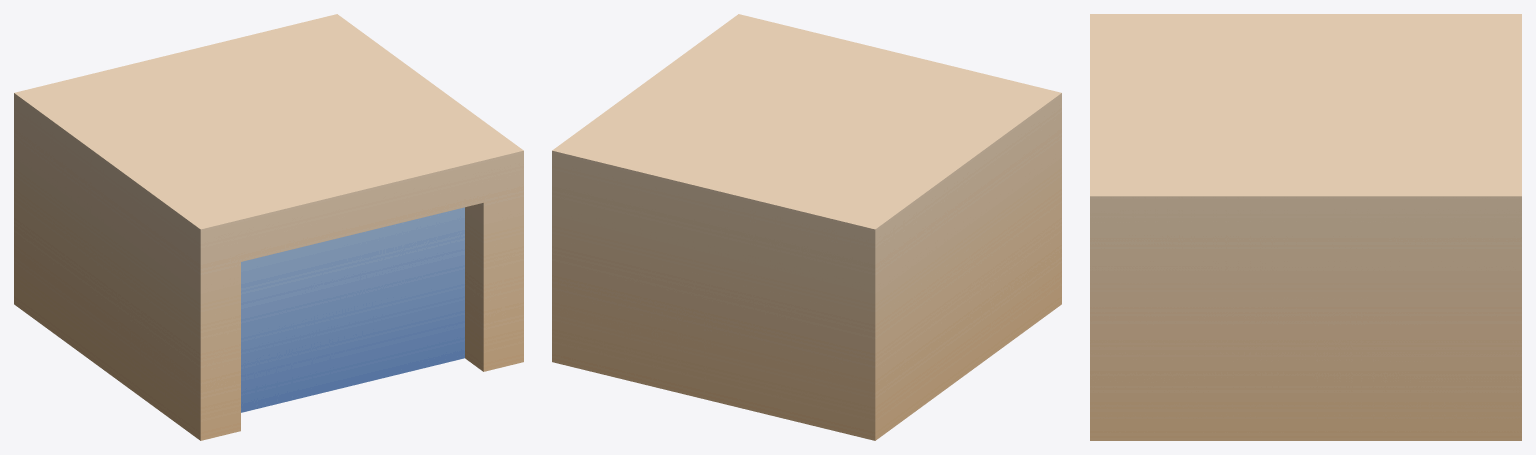
The model's file is building-window-large.glb.
3 views of the same model, side by side, from view 1: azimuth 30°, elevation 25°; view 2: azimuth 150°, elevation 25°; view 3: azimuth 270°, elevation 25° (orthographic). The views are drawn at different scales.
Visible parts, largest first — view 1: building-window-large; view 2: building-window-large; view 3: building-window-large.
Boxes of the visible parts, x1,y1,x2,y2 form: building-window-large: (14, 14, 523, 440); building-window-large: (552, 14, 1061, 440); building-window-large: (1090, 14, 1521, 440).
Bounding box in the file's own units: 1 × 0.625 × 1.
1 material, 1 textured.
